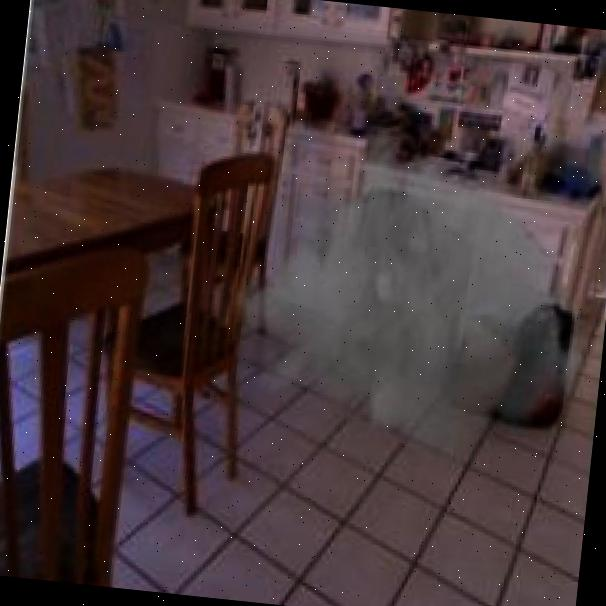smoke: (212, 103, 606, 515)
